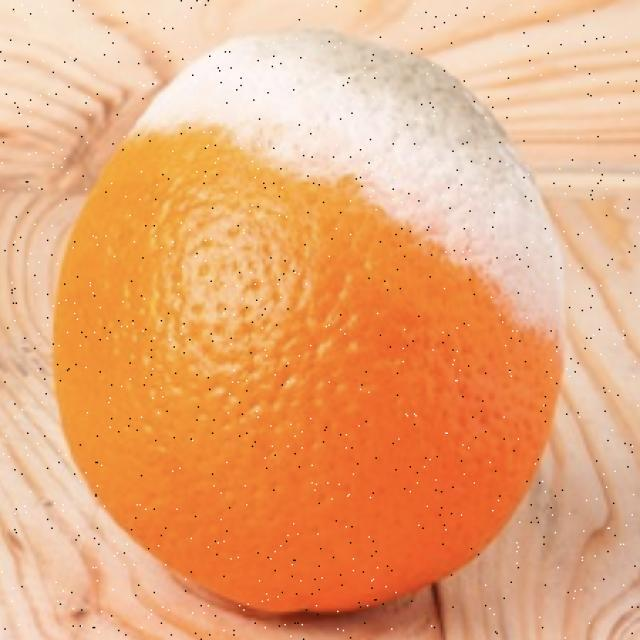sedikit-busuk: (55, 33, 563, 611)
